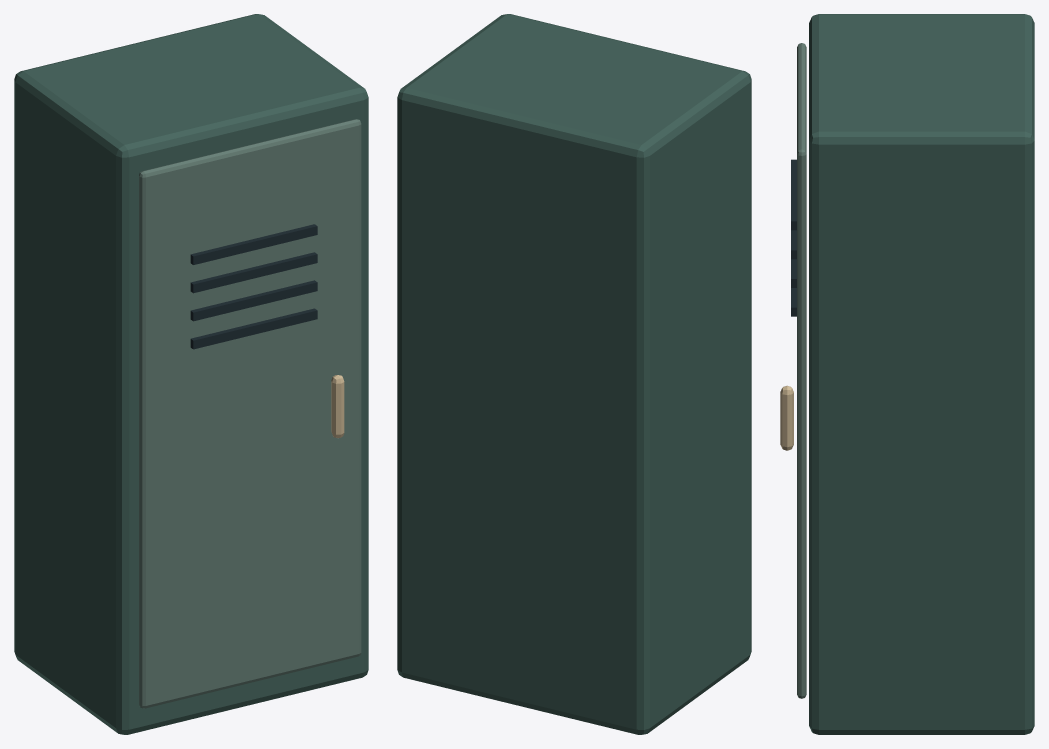
Rendered from locker.glb.
3 renders of one model, left to right at view 1: azimuth 30°, elevation 25°; view 2: azimuth 150°, elevation 25°; view 3: azimuth 270°, elevation 25°, orthographic. The views are drawn at different scales.
Visible parts, largest first — view 1: locker; view 2: locker; view 3: locker.
Boxes of the visible parts, bbox=[...] form: locker: bbox=[14, 14, 368, 734]; locker: bbox=[397, 14, 751, 734]; locker: bbox=[780, 14, 1034, 734].
Size of the model in its own units: 0.75 by 1.68 by 0.6425.
